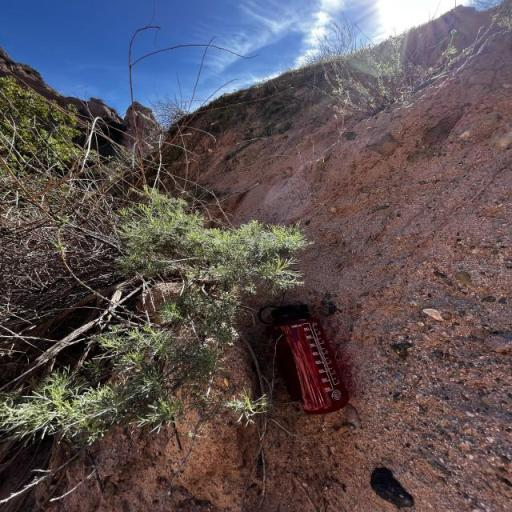bottle: (255, 298, 352, 420)
